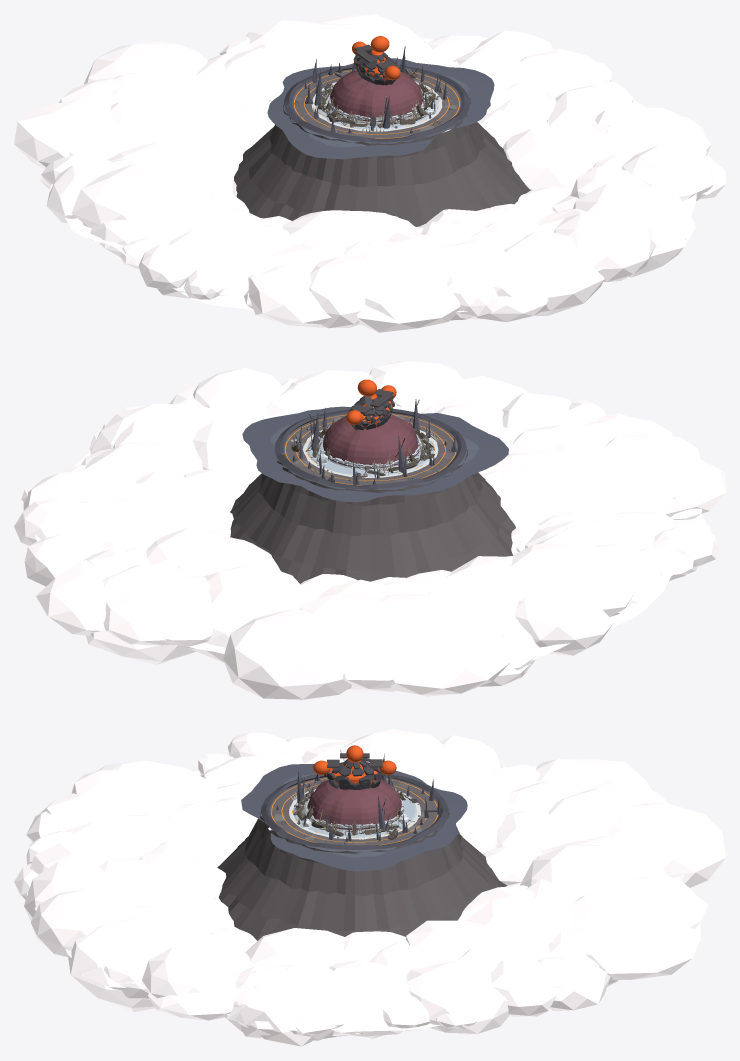
Rendered from bundle_bosses.glb.
3 renders of one model, top to bottom at view 1: azimuth 30°, elevation 25°; view 2: azimuth 150°, elevation 25°; view 3: azimuth 270°, elevation 25°, orthographic. The views are drawn at different scales.
Visible parts, largest first — view 1: PyreliskArena_CloudDeco, PyreliskArena_Flank, Maelstrom_Base, KrakenGullet_Walls, PyreliskArena_Base, PyreliskArena_Rim, Maelstrom_Spires, Pyrelisk_Torso, Pyrelisk_Core, WrackArena_Fleet; view 2: PyreliskArena_CloudDeco, PyreliskArena_Flank, Maelstrom_Base, KrakenGullet_Walls, PyreliskArena_Base, PyreliskArena_Rim, Maelstrom_Spires, Pyrelisk_Core, Pyrelisk_Torso, RimefangArena_Base, RimefangArena_Ridge; view 3: PyreliskArena_CloudDeco, PyreliskArena_Flank, Maelstrom_Base, KrakenGullet_Walls, PyreliskArena_Base, PyreliskArena_Rim, Pyrelisk_Torso, Maelstrom_Spires, Pyrelisk_Core, RimefangArena_Base, WrackArena_Fleet, PyreliskArena_SeamDeco.
Part boxes in pixels (x1,y1,x2,y2): PyreliskArena_CloudDeco: [14, 14, 725, 332]; PyreliskArena_Flank: [234, 98, 530, 226]; Maelstrom_Base: [267, 58, 494, 159]; KrakenGullet_Walls: [330, 70, 422, 118]; PyreliskArena_Base: [292, 68, 461, 138]; PyreliskArena_Rim: [284, 64, 469, 142]; Maelstrom_Spires: [307, 50, 446, 132]; Pyrelisk_Torso: [353, 52, 397, 85]; Pyrelisk_Core: [352, 36, 400, 81]; WrackArena_Fleet: [318, 80, 435, 127]; PyreliskArena_CloudDeco: [14, 361, 725, 700]; PyreliskArena_Flank: [230, 432, 515, 583]; Maelstrom_Base: [242, 406, 508, 502]; KrakenGullet_Walls: [323, 414, 418, 464]; PyreliskArena_Base: [283, 413, 457, 485]; PyreliskArena_Rim: [274, 408, 466, 489]; Maelstrom_Spires: [295, 399, 457, 485]; Pyrelisk_Core: [346, 379, 396, 428]; Pyrelisk_Torso: [349, 394, 394, 429]; RimefangArena_Base: [307, 437, 433, 476]; RimefangArena_Ridge: [319, 434, 421, 469]; PyreliskArena_CloudDeco: [14, 729, 725, 1046]; PyreliskArena_Flank: [217, 788, 507, 940]; Maelstrom_Base: [241, 764, 467, 871]; KrakenGullet_Walls: [307, 779, 401, 825]; PyreliskArena_Base: [269, 777, 438, 845]; PyreliskArena_Rim: [261, 774, 448, 849]; Pyrelisk_Torso: [324, 759, 384, 789]; Maelstrom_Spires: [297, 757, 434, 840]; Pyrelisk_Core: [313, 745, 396, 786]; RimefangArena_Base: [293, 795, 416, 837]; WrackArena_Fleet: [293, 787, 404, 836]; PyreliskArena_SeamDeco: [271, 778, 437, 845].
Size of what is drawn, in the model's own units: 1807 by 575 by 1915.
